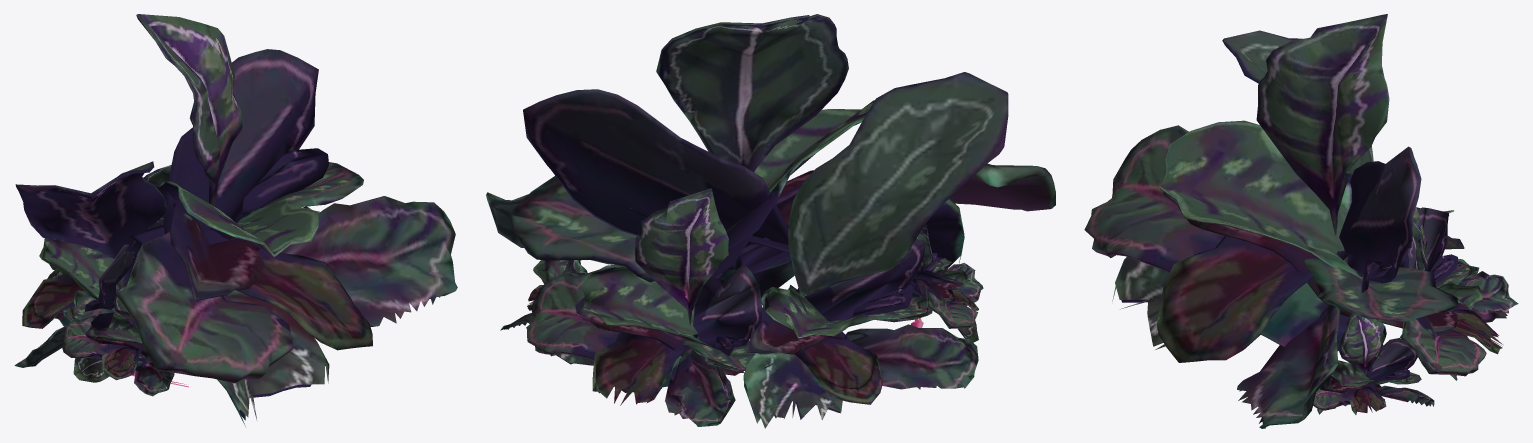
File: leaf-calathea-rose.glb
The picture shows the model from 3 angles, left to right: view 1: azimuth 30°, elevation 25°; view 2: azimuth 150°, elevation 25°; view 3: azimuth 270°, elevation 25°; orthographic projection. The views are drawn at different scales.
Visible parts, largest first — view 1: plant; view 2: plant; view 3: plant.
Boxes of the visible parts, box(x1,y1,x2,y2) form: plant: box(14, 14, 457, 426); plant: box(486, 14, 1055, 428); plant: box(1084, 14, 1518, 428).
Bounding box in the file's own units: 1.49 × 1 × 1.29.
1 material, 1 textured.
